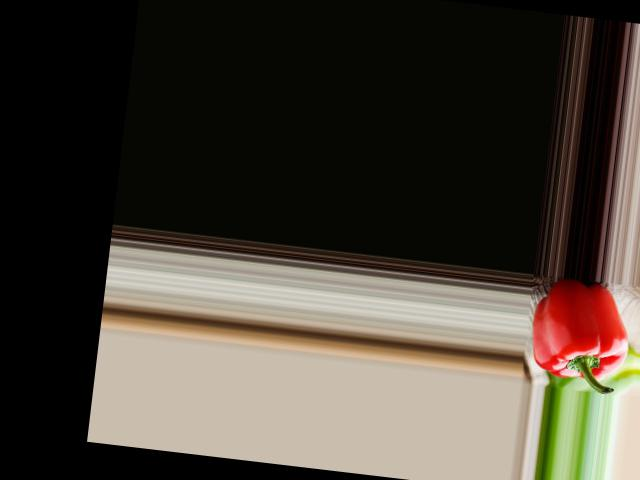bell_pepper: (528, 273, 638, 393)
